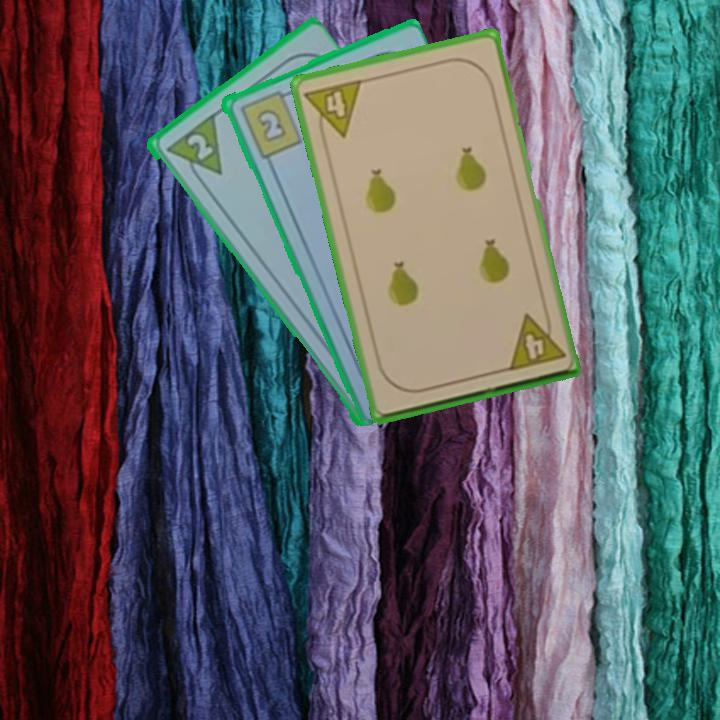2b: (235, 86, 304, 161)
2p: (182, 129, 216, 164)
4p: (301, 75, 365, 145), (503, 307, 568, 374)
